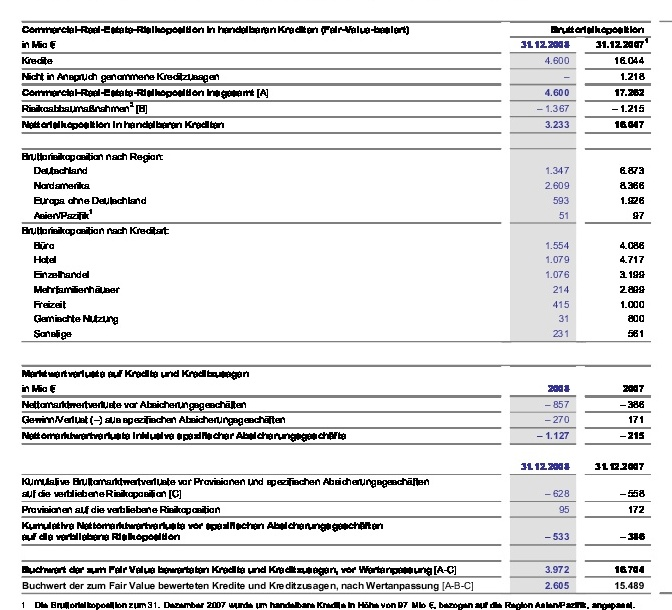table: (0, 0, 672, 610)
